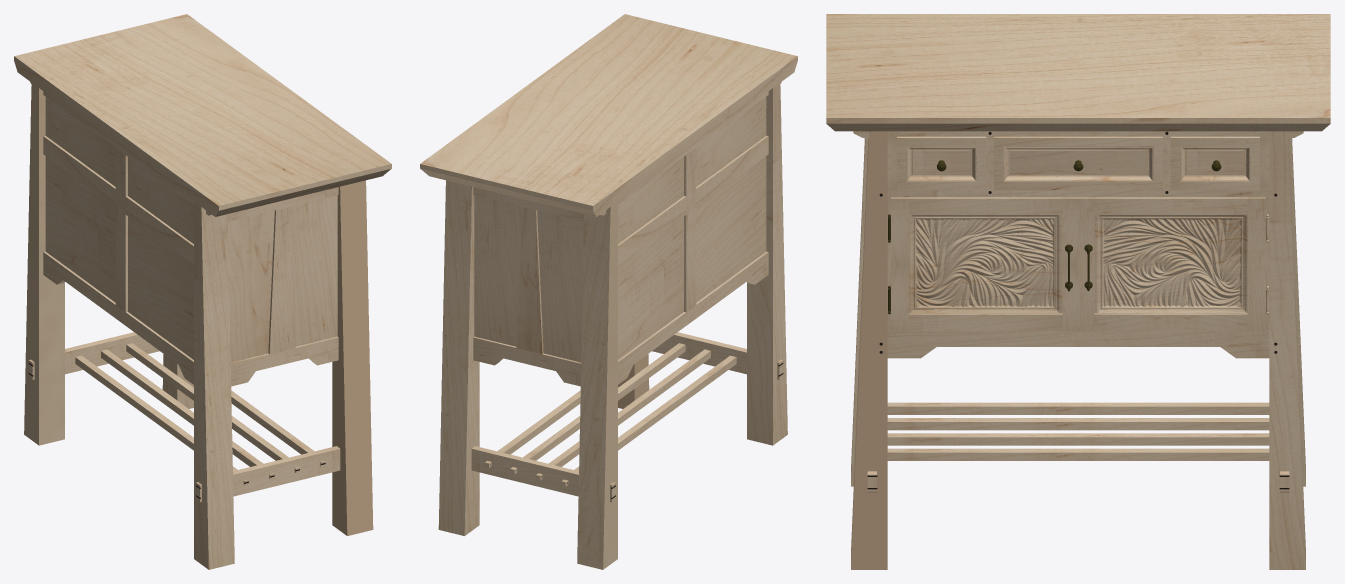
File: case-1.glb
3 renders of one model, left to right at view 1: azimuth 30°, elevation 25°; view 2: azimuth 150°, elevation 25°; view 3: azimuth 270°, elevation 25°, orthographic. The views are drawn at different scales.
Parts seen in each view (by area): view 1: maple.007; view 2: maple.007; view 3: maple.007.
Part boxes in pixels (x1=…): maple.007: x1=14, y1=14, x2=391, y2=569; maple.007: x1=420, y1=14, x2=797, y2=569; maple.007: x1=826, y1=14, x2=1330, y2=569.
Size of the model in its own units: 0.5147 by 1.04 by 1.04.
3 materials, 2 textured.
